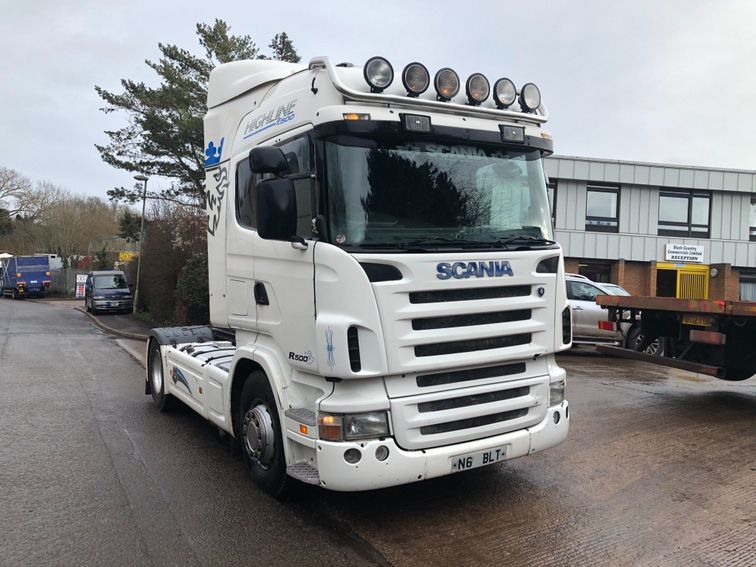Car: (82, 269, 133, 314)
Semi: (143, 58, 572, 492)
